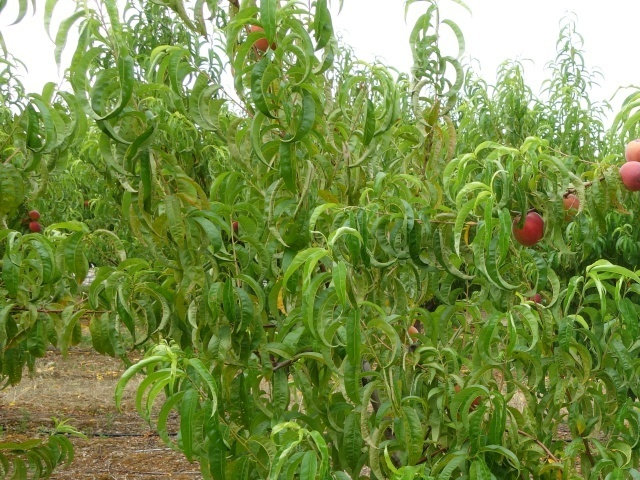peach: (510, 210, 549, 248), (243, 21, 277, 53), (557, 190, 583, 223), (617, 159, 640, 195), (620, 138, 640, 165)
